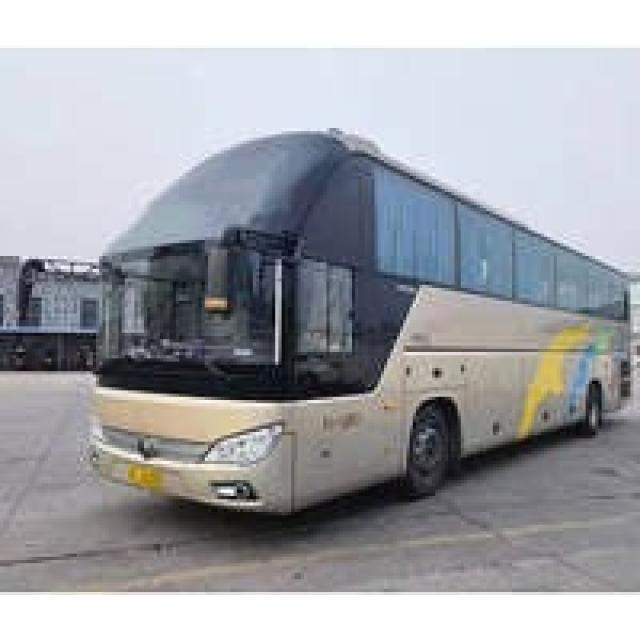bus: (84, 112, 640, 533)
